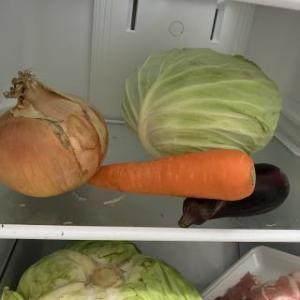cabbage: (120, 48, 284, 162), (0, 239, 202, 299)
carrot: (82, 149, 258, 203)
eggplant: (177, 162, 291, 230)
onion: (0, 70, 110, 200)
